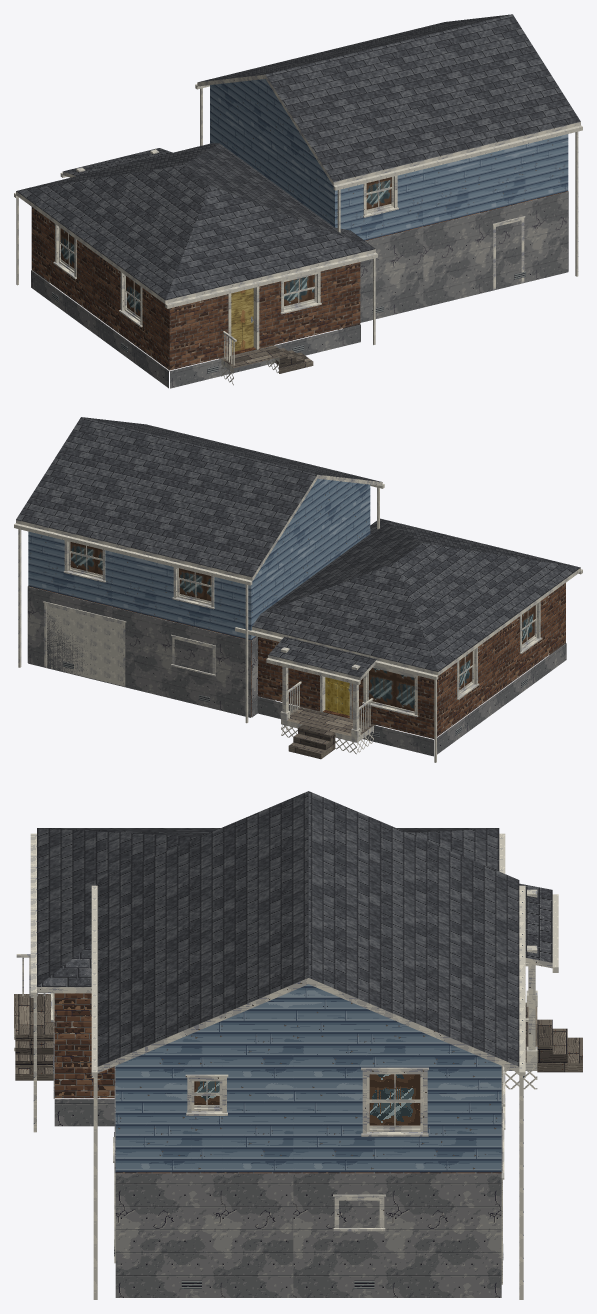
File: RES_House_SplitLevel.obj
3 renders of one model, top to bottom at view 1: azimuth 30°, elevation 25°; view 2: azimuth 150°, elevation 25°; view 3: azimuth 270°, elevation 25°, orthographic. The views are drawn at different scales.
Parts seen in each view (by area): view 1: RES_House_SplitLevel_Exterior_M_Arch_RoofShinglesDarkGray, RES_House_SplitLevel_Exterior_M_Arch_ConcreteFoundation, RES_House_SplitLevel_Exterior_M_Arch_SidingBlue, RES_House_SplitLevel_Exterior_M_Arch_BrickWeatheredBrown, RES_House_SplitLevel_Exterior_M_Arch_TrimPainted, RES_House_SplitLevel_Exterior_M_Town_PaintWhite, RES_House_SplitLevel_Exterior_M_Arch_WindowGlassDirty, INT_Door_Back_M_Furn_WoodPainted, RES_House_SplitLevel_Exterior_M_Arch_WoodPlanksAged; view 2: RES_House_SplitLevel_Exterior_M_Arch_RoofShinglesDarkGray, RES_House_SplitLevel_Exterior_M_Arch_SidingBlue, RES_House_SplitLevel_Exterior_M_Arch_ConcreteFoundation, RES_House_SplitLevel_Exterior_M_Arch_BrickWeatheredBrown, RES_House_SplitLevel_Exterior_M_Arch_TrimPainted, INT_GarageDoor_Garage_M_Town_PaintWhite, RES_House_SplitLevel_Exterior_M_Town_PaintWhite, RES_House_SplitLevel_Exterior_M_Arch_WindowGlassDirty, RES_House_SplitLevel_Exterior_M_Arch_WoodPlanksAged, INT_Door_Front_M_Town_PaintYellow; view 3: RES_House_SplitLevel_Exterior_M_Arch_RoofShinglesDarkGray, RES_House_SplitLevel_Exterior_M_Arch_SidingBlue, RES_House_SplitLevel_Exterior_M_Arch_ConcreteFoundation, RES_House_SplitLevel_Exterior_M_Arch_TrimPainted, RES_House_SplitLevel_Exterior_M_Town_PaintWhite, RES_House_SplitLevel_Exterior_M_Arch_WoodPlanksAged, RES_House_SplitLevel_Exterior_M_Arch_BrickWeatheredBrown, RES_House_SplitLevel_Exterior_M_Arch_WindowGlassDirty.
Part boxes in pixels (left/top/right/bottom): RES_House_SplitLevel_Exterior_M_Arch_RoofShinglesDarkGray: left=16, top=14, right=580, bottom=300; RES_House_SplitLevel_Exterior_M_Arch_ConcreteFoundation: left=31, top=191, right=568, bottom=388; RES_House_SplitLevel_Exterior_M_Arch_SidingBlue: left=210, top=79, right=568, bottom=240; RES_House_SplitLevel_Exterior_M_Arch_BrickWeatheredBrown: left=31, top=191, right=568, bottom=370; RES_House_SplitLevel_Exterior_M_Arch_TrimPainted: left=16, top=74, right=580, bottom=373; RES_House_SplitLevel_Exterior_M_Town_PaintWhite: left=14, top=84, right=582, bottom=344; RES_House_SplitLevel_Exterior_M_Arch_WindowGlassDirty: left=60, top=177, right=391, bottom=316; INT_Door_Back_M_Furn_WoodPainted: left=231, top=288, right=253, bottom=352; RES_House_SplitLevel_Exterior_M_Arch_WoodPlanksAged: left=220, top=345, right=313, bottom=373; RES_House_SplitLevel_Exterior_M_Arch_RoofShinglesDarkGray: left=16, top=417, right=580, bottom=677; RES_House_SplitLevel_Exterior_M_Arch_SidingBlue: left=28, top=478, right=370, bottom=640; RES_House_SplitLevel_Exterior_M_Arch_ConcreteFoundation: left=27, top=586, right=566, bottom=756; RES_House_SplitLevel_Exterior_M_Arch_BrickWeatheredBrown: left=28, top=583, right=565, bottom=738; RES_House_SplitLevel_Exterior_M_Arch_TrimPainted: left=16, top=475, right=580, bottom=742; INT_GarageDoor_Garage_M_Town_PaintWhite: left=47, top=605, right=122, bottom=685; RES_House_SplitLevel_Exterior_M_Town_PaintWhite: left=14, top=484, right=582, bottom=762; RES_House_SplitLevel_Exterior_M_Arch_WindowGlassDirty: left=70, top=542, right=535, bottom=711; RES_House_SplitLevel_Exterior_M_Arch_WoodPlanksAged: left=287, top=706, right=374, bottom=759; INT_Door_Front_M_Town_PaintYellow: left=325, top=677, right=349, bottom=715; RES_House_SplitLevel_Exterior_M_Arch_RoofShinglesDarkGray: left=37, top=791, right=552, bottom=1066; RES_House_SplitLevel_Exterior_M_Arch_SidingBlue: left=115, top=984, right=501, bottom=1172; RES_House_SplitLevel_Exterior_M_Arch_ConcreteFoundation: left=53, top=1022, right=502, bottom=1297; RES_House_SplitLevel_Exterior_M_Arch_TrimPainted: left=14, top=889, right=552, bottom=1284; RES_House_SplitLevel_Exterior_M_Town_PaintWhite: left=30, top=833, right=558, bottom=1299; RES_House_SplitLevel_Exterior_M_Arch_WoodPlanksAged: left=14, top=994, right=582, bottom=1080; RES_House_SplitLevel_Exterior_M_Arch_BrickWeatheredBrown: left=54, top=993, right=501, bottom=1173; RES_House_SplitLevel_Exterior_M_Arch_WindowGlassDirty: left=194, top=1074, right=420, bottom=1125.
Bounding box in the file's own units: 15.3 × 7.06 × 11.2.
27 materials, 26 textured.
